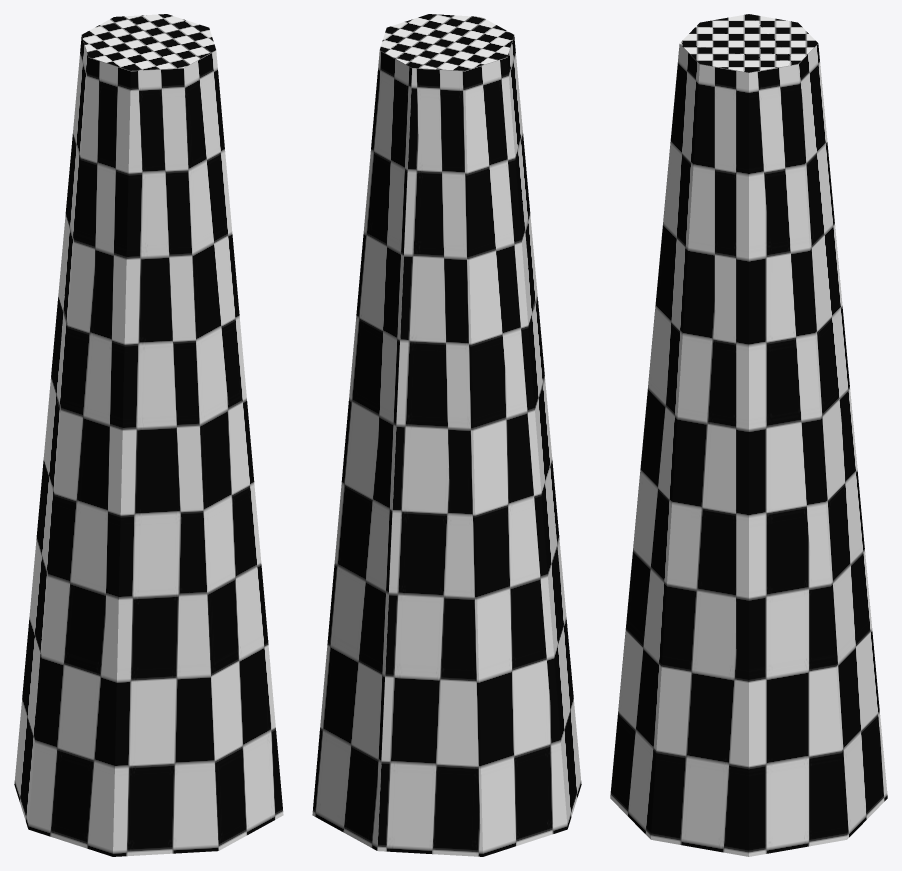
The model's file is finish_pillar.fbx.
The picture shows the model from 3 angles, left to right: view 1: azimuth 30°, elevation 25°; view 2: azimuth 150°, elevation 25°; view 3: azimuth 270°, elevation 25°; orthographic projection.
Parts seen in each view (by area): view 1: Cylinder; view 2: Cylinder; view 3: Cylinder.
Boxes of the visible parts, bbox=[...] form: Cylinder: bbox=[14, 14, 283, 856]; Cylinder: bbox=[312, 14, 581, 856]; Cylinder: bbox=[610, 14, 887, 856].
Size of the model in its own units: 250 by 750 by 250.
